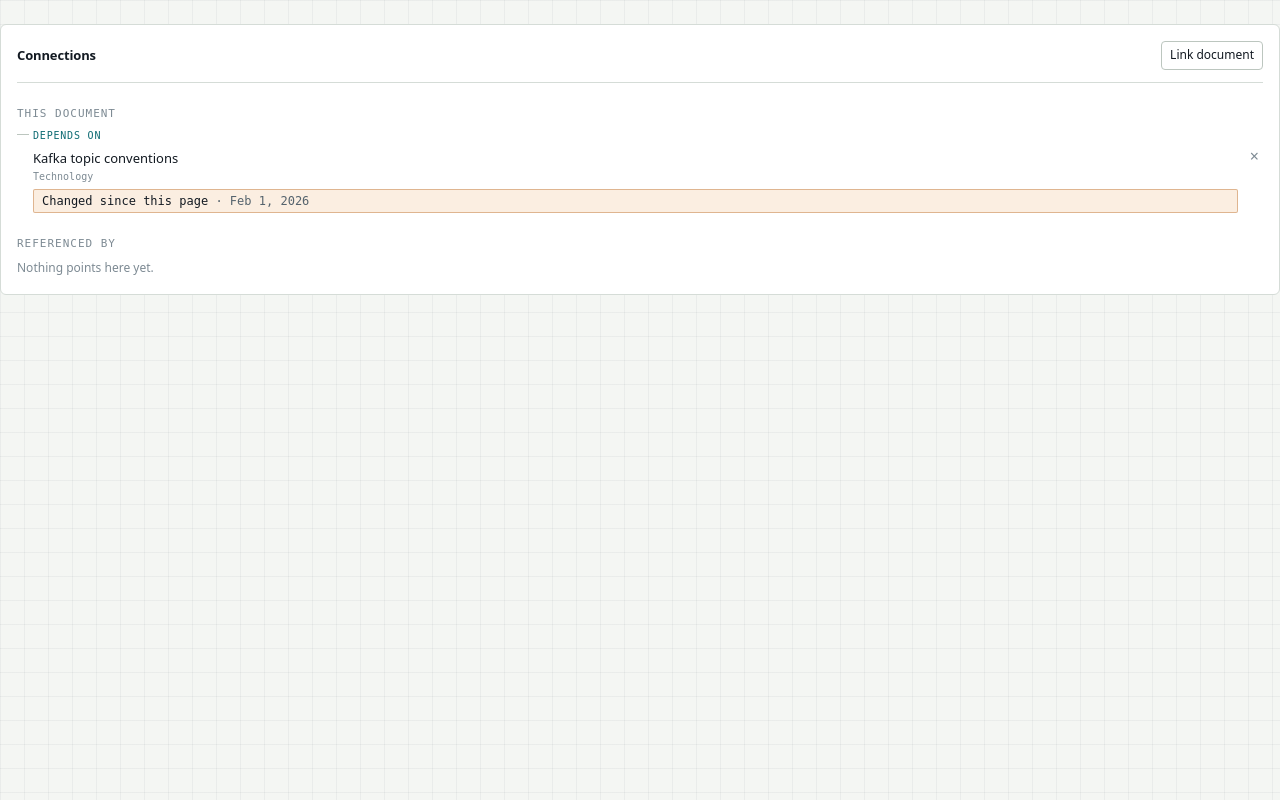
Test case: ReferenceRail › says so when the linked page did not exist yet
Click the button "Changed since this page · Feb 1, 2026" at (125, 201), box [33, 190, 1238, 214]
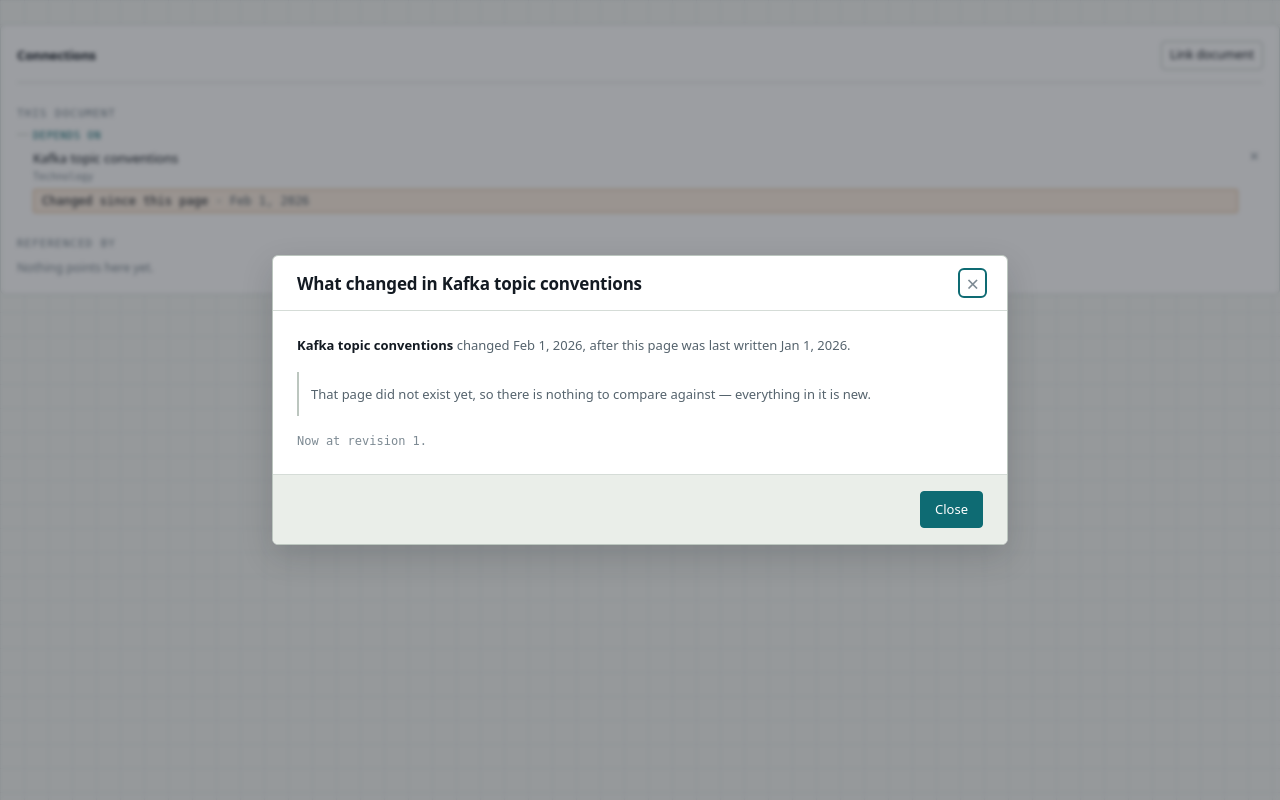
Expected: the text "did not exist yet" is shown, [311, 385, 871, 403]
